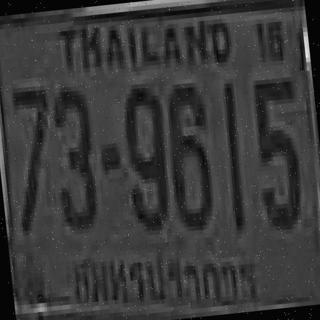N01: (218, 81, 247, 228)
N03: (46, 83, 99, 229)
N05: (248, 72, 307, 228)
N06: (161, 78, 214, 228)
N07: (6, 81, 60, 231)
N09: (118, 80, 172, 230)
P57: (66, 230, 262, 320)
